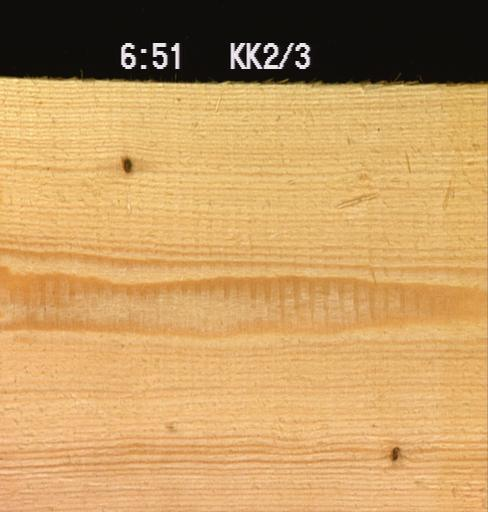dry_knot: (387, 442, 400, 462), (121, 155, 132, 175)
